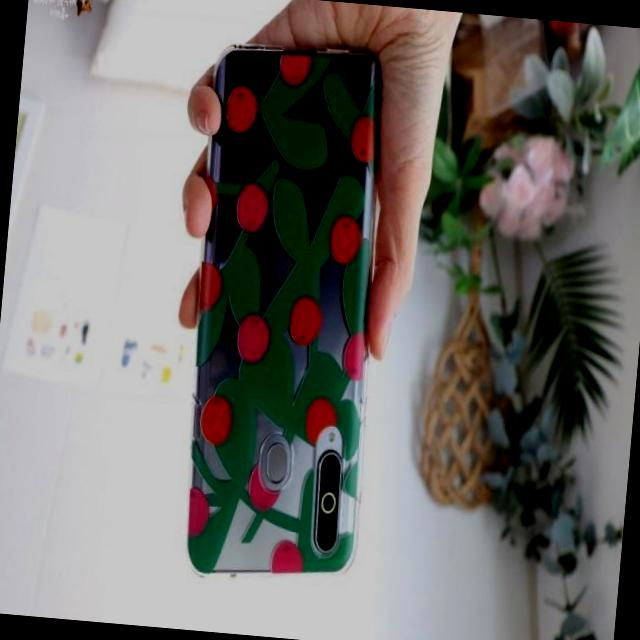lens_back: (314, 520, 336, 546), (318, 454, 340, 480)
phone: (168, 31, 402, 592)
